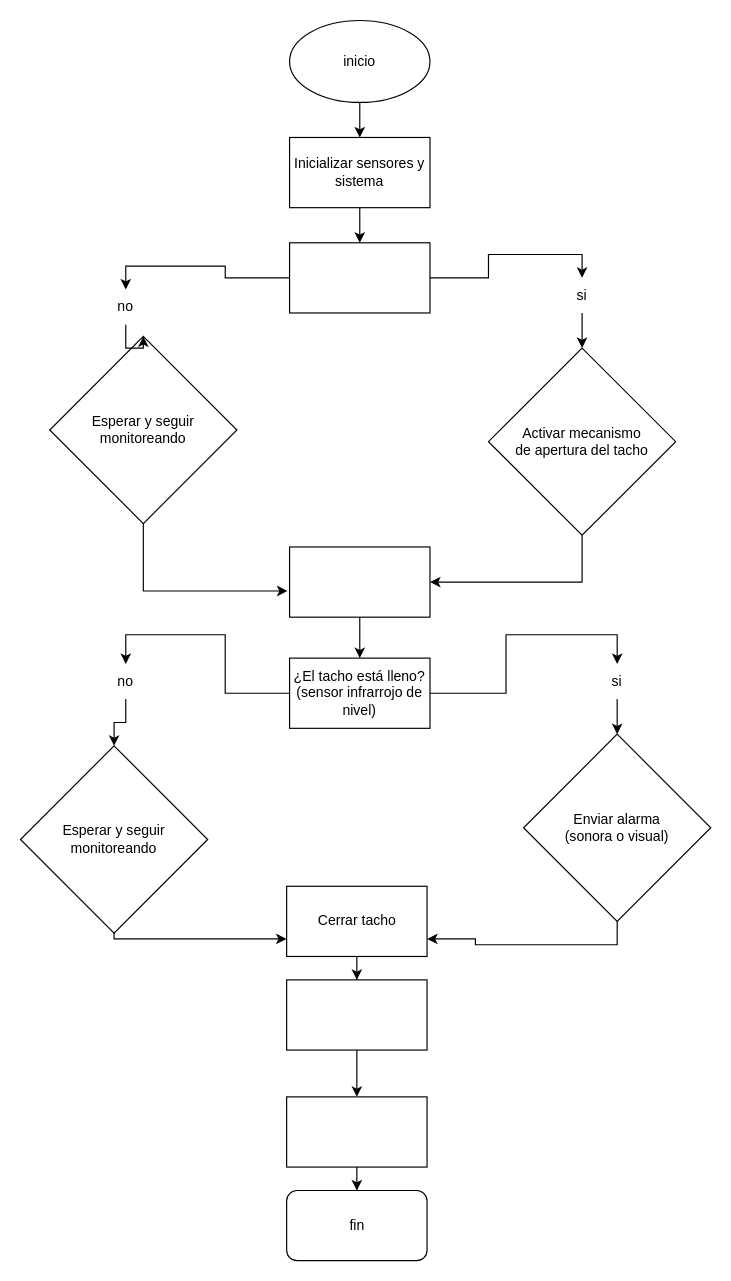
Some shapes in this 731 by 1281 pixel diagram are drawn without their labels. Here are the shapes that lost their labels. From the top down, the centre of each, then its label:
the point at 359,277: ¿Se detecta objetivo cercano? (sensor infrarrojo de proximidad)
the point at 359,581: Abrir tacho
the point at 356,1014: Esperar x segundos
the point at 356,1131: Reiniciar ciclo
